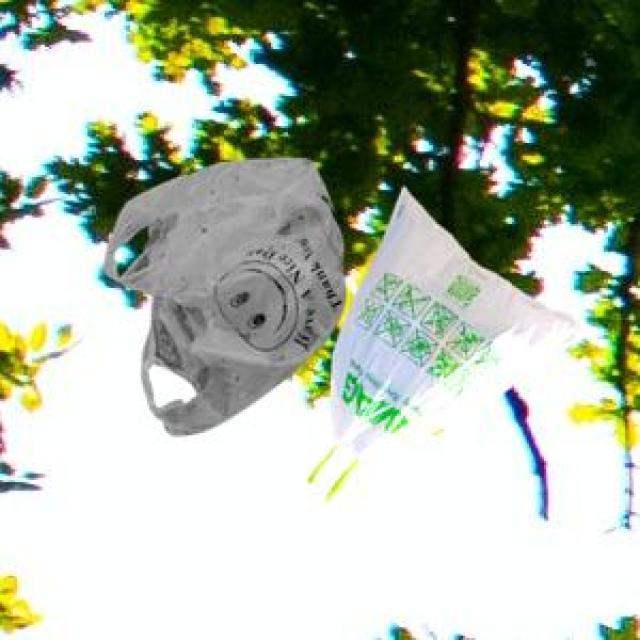plastic: (83, 86, 569, 522)
